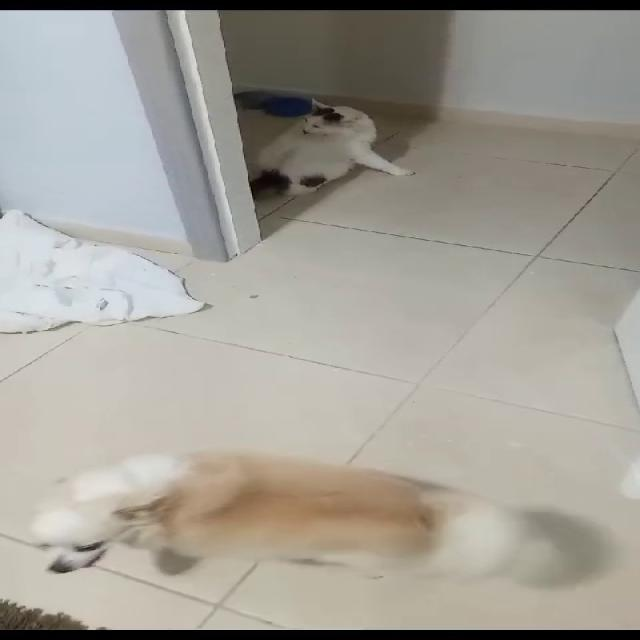Simba: (278, 83, 421, 227)
Theo: (47, 449, 605, 614)
